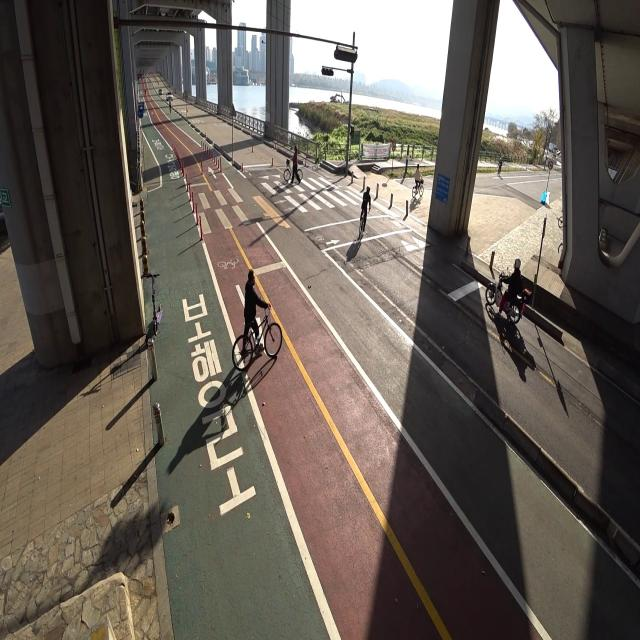Motorcycle: (484, 254, 528, 327)
